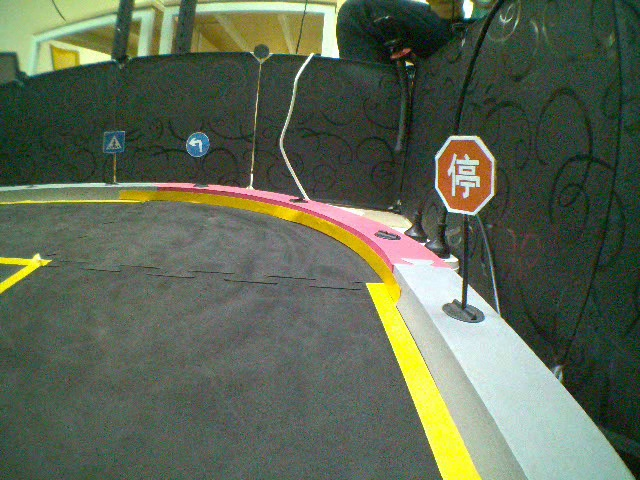Stop: (433, 135, 497, 213)
crossing: (102, 129, 126, 152)
turn: (186, 130, 212, 160)
